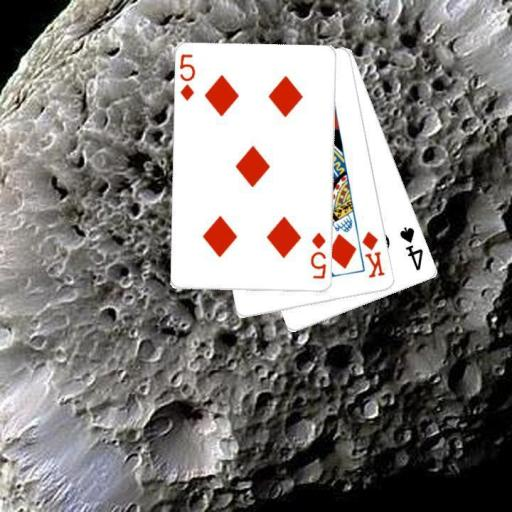card-corner: (359, 228, 387, 280), (397, 224, 425, 272), (307, 230, 328, 280), (177, 52, 197, 102)
